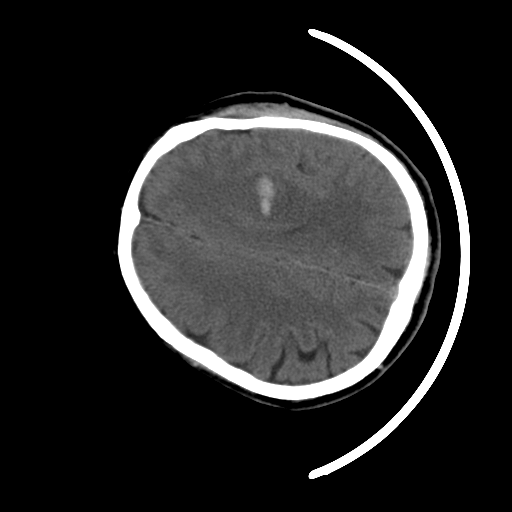a: (222, 157, 312, 236)
